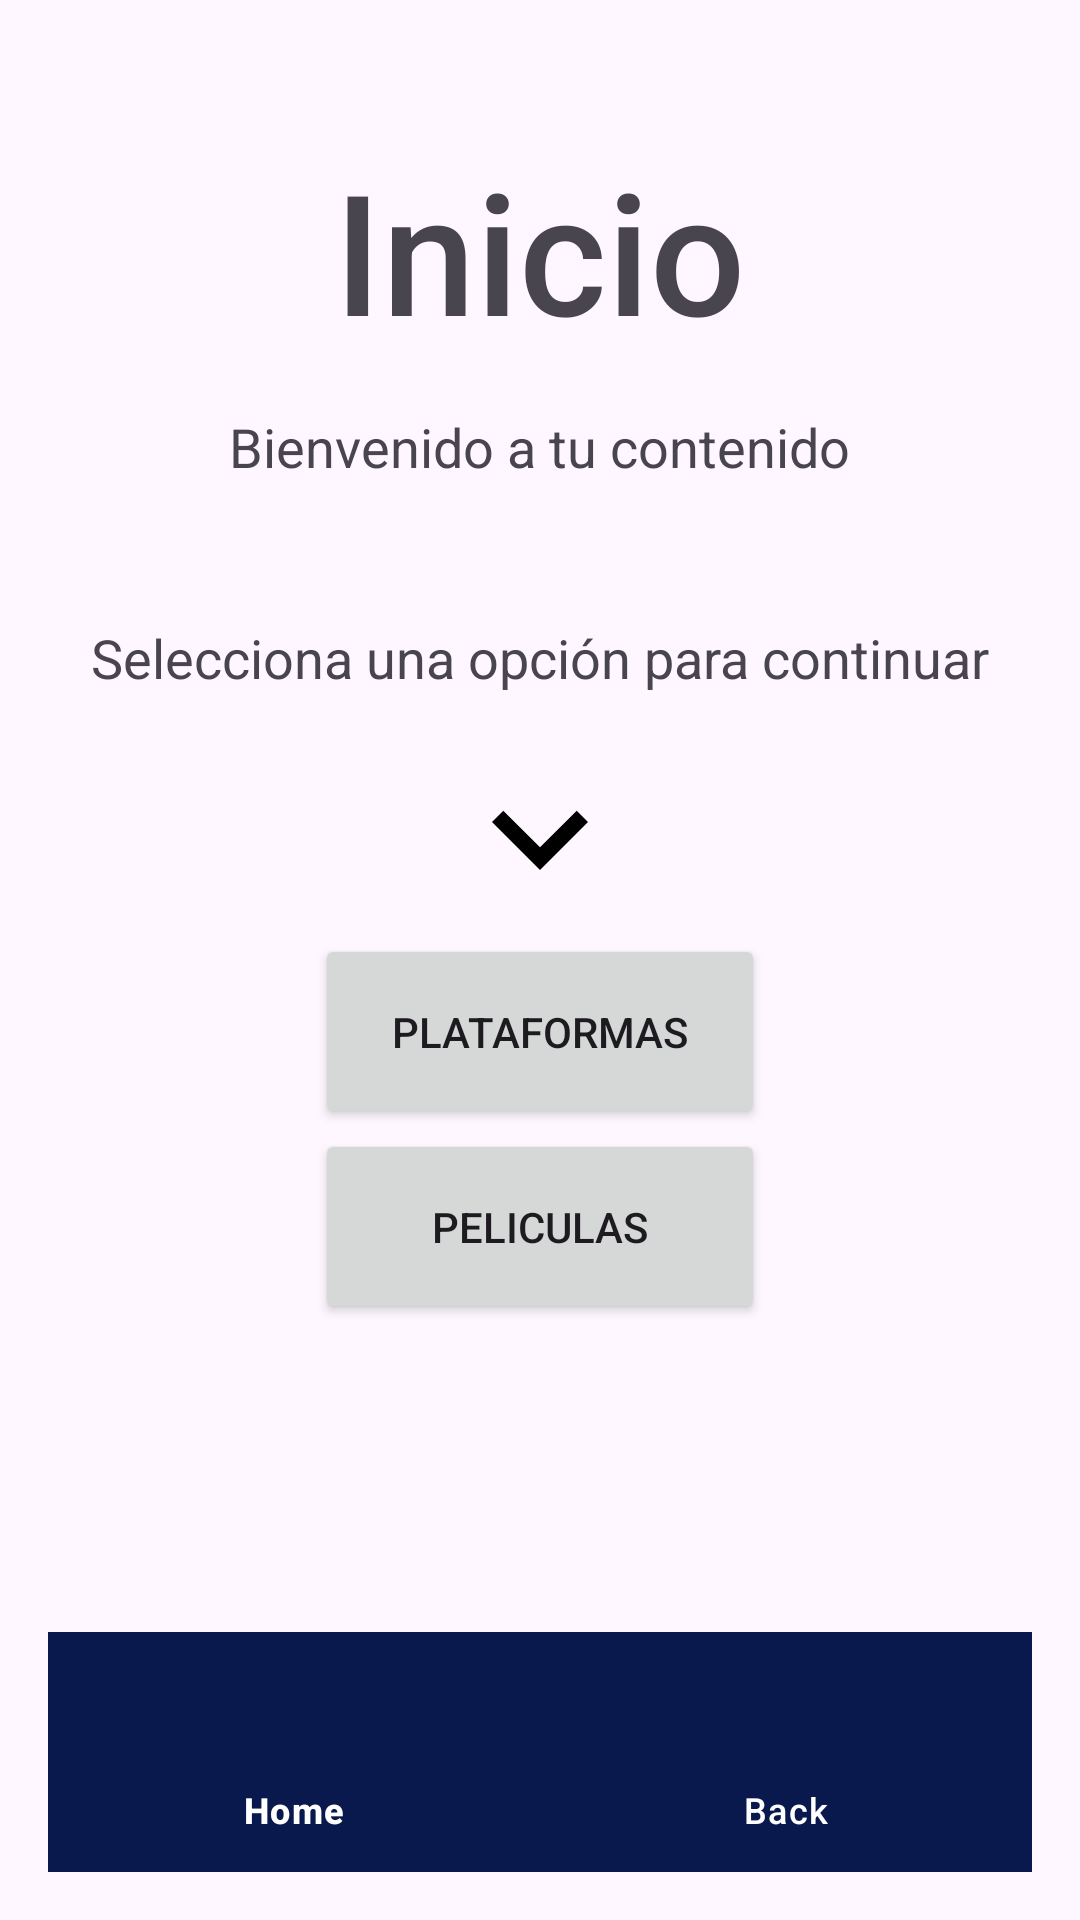

Icon bounding boxes for this 1080 × 1920 phone screenshot, format [left=x1, top=y1, right=x2, bottom=y2]:
flecha: [left=492, top=811, right=588, bottom=870]
